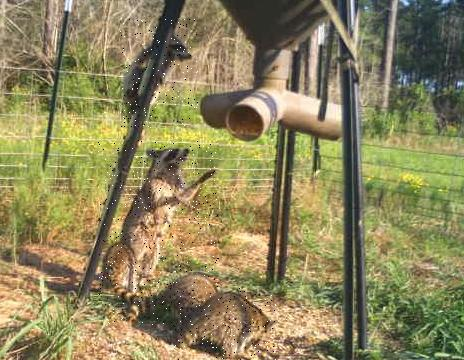Raccoon: (98, 141, 219, 325), (121, 18, 199, 128), (175, 288, 277, 360), (141, 271, 220, 328)
